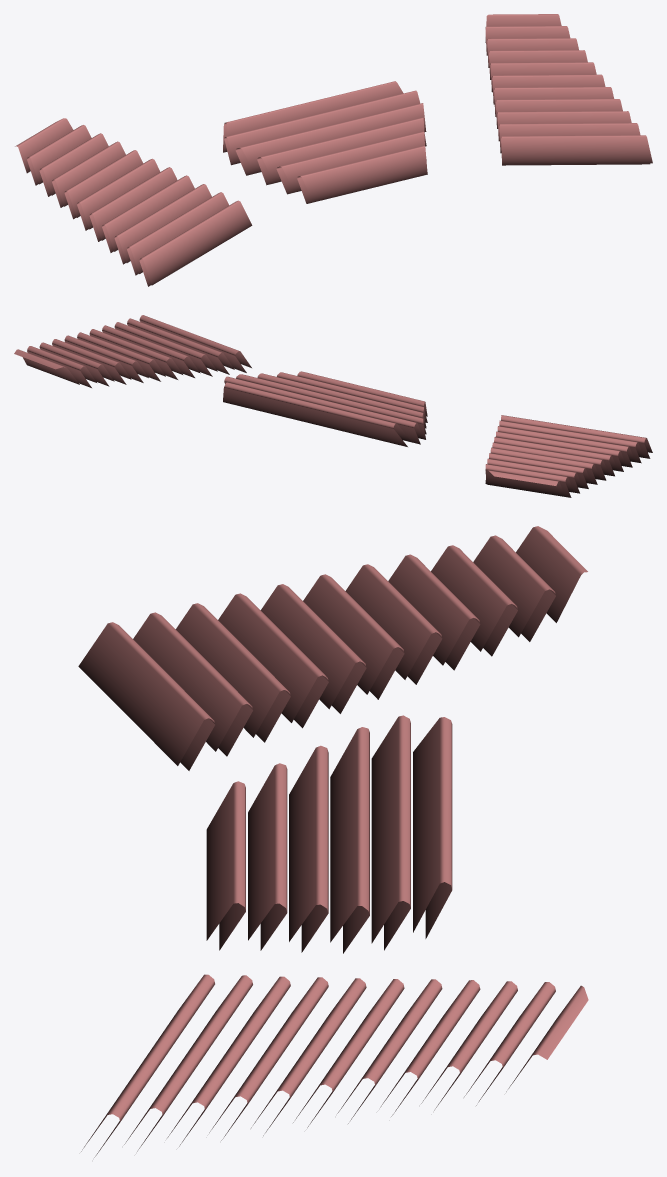
File: MX5_Hood03_Trim.fbx
3 views of the same model, one above another, from view 1: azimuth 30°, elevation 25°; view 2: azimuth 150°, elevation 25°; view 3: azimuth 270°, elevation 25° (orthographic). The views are drawn at different scales.
Parts seen in each view (by area): view 1: MX5_Hood03_Trim; view 2: MX5_Hood03_Trim; view 3: MX5_Hood03_Trim.
Part boxes in pixels (bbox=[...]): MX5_Hood03_Trim: bbox=[15, 14, 652, 286]; MX5_Hood03_Trim: bbox=[14, 315, 652, 497]; MX5_Hood03_Trim: bbox=[78, 526, 588, 1157].
Bounding box in the file's own units: 63.69 × 7.75 × 25.95.
